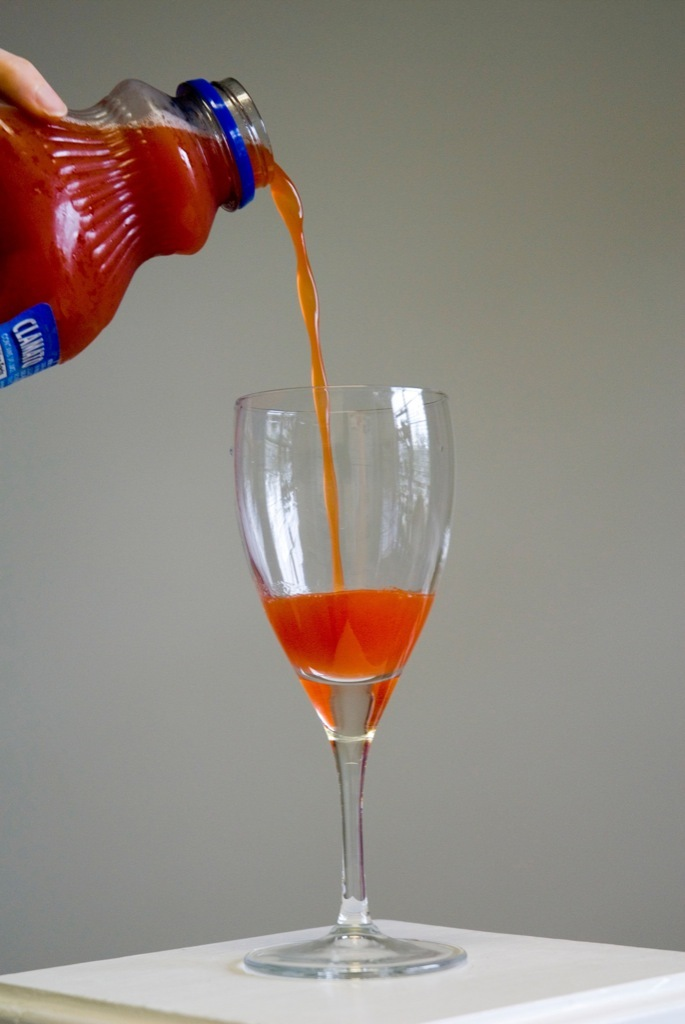person: (0, 44, 322, 393)
